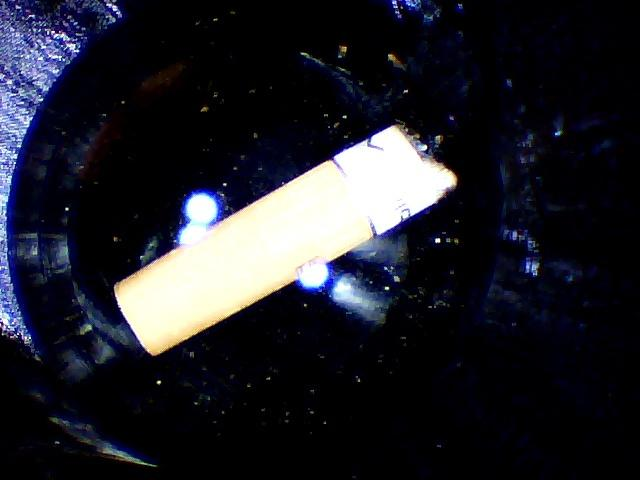megot: (93, 109, 465, 376)
